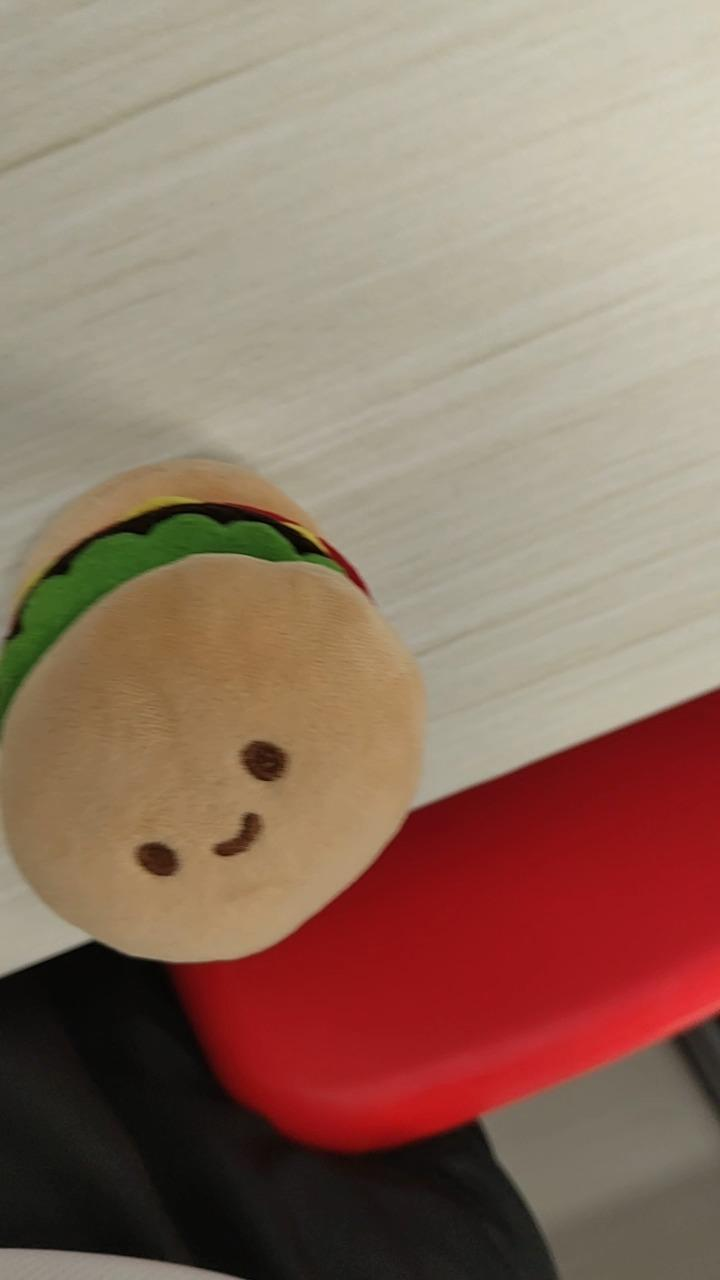hamburger: (0, 459, 425, 963)
